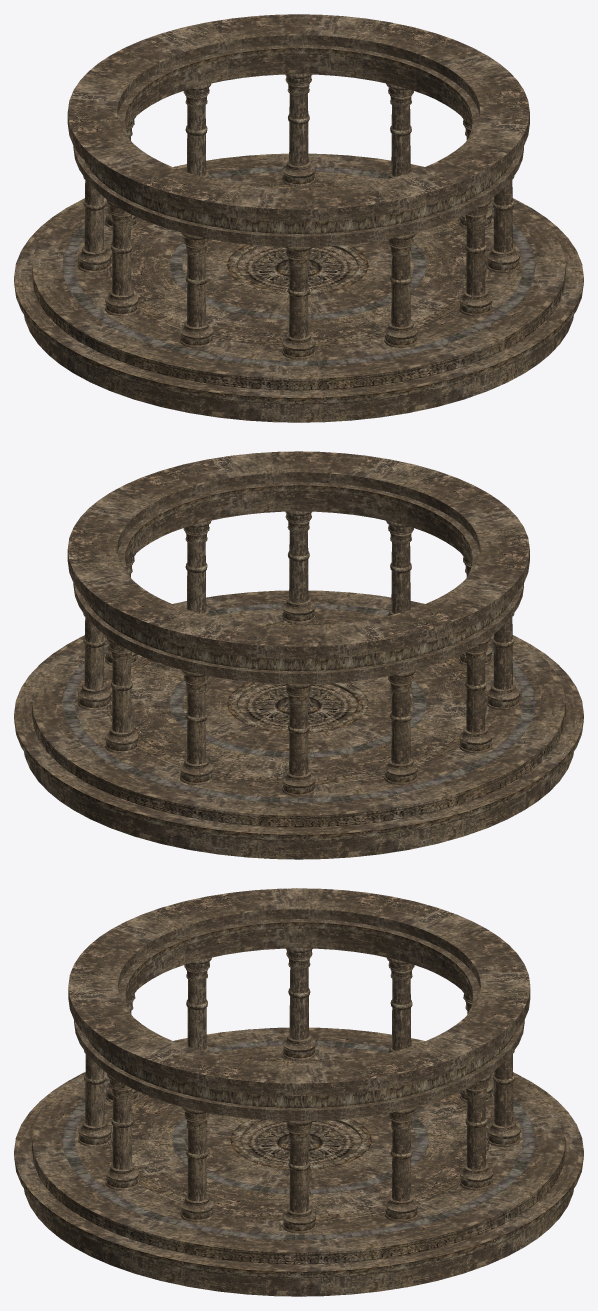
Rendered from materials_5_building_24.fbx.
3 views of the same model, one above another, from view 1: azimuth 30°, elevation 25°; view 2: azimuth 150°, elevation 25°; view 3: azimuth 270°, elevation 25° (orthographic).
Parts seen in each view (by area): view 1: materials_5_building_24; view 2: materials_5_building_24; view 3: materials_5_building_24.
Boxes of the visible parts, box(x1,y1,x2,y2) form: materials_5_building_24: box(14, 14, 583, 422); materials_5_building_24: box(14, 451, 583, 859); materials_5_building_24: box(14, 888, 583, 1296).
Bounding box in the file's own units: 913 × 343 × 913.
